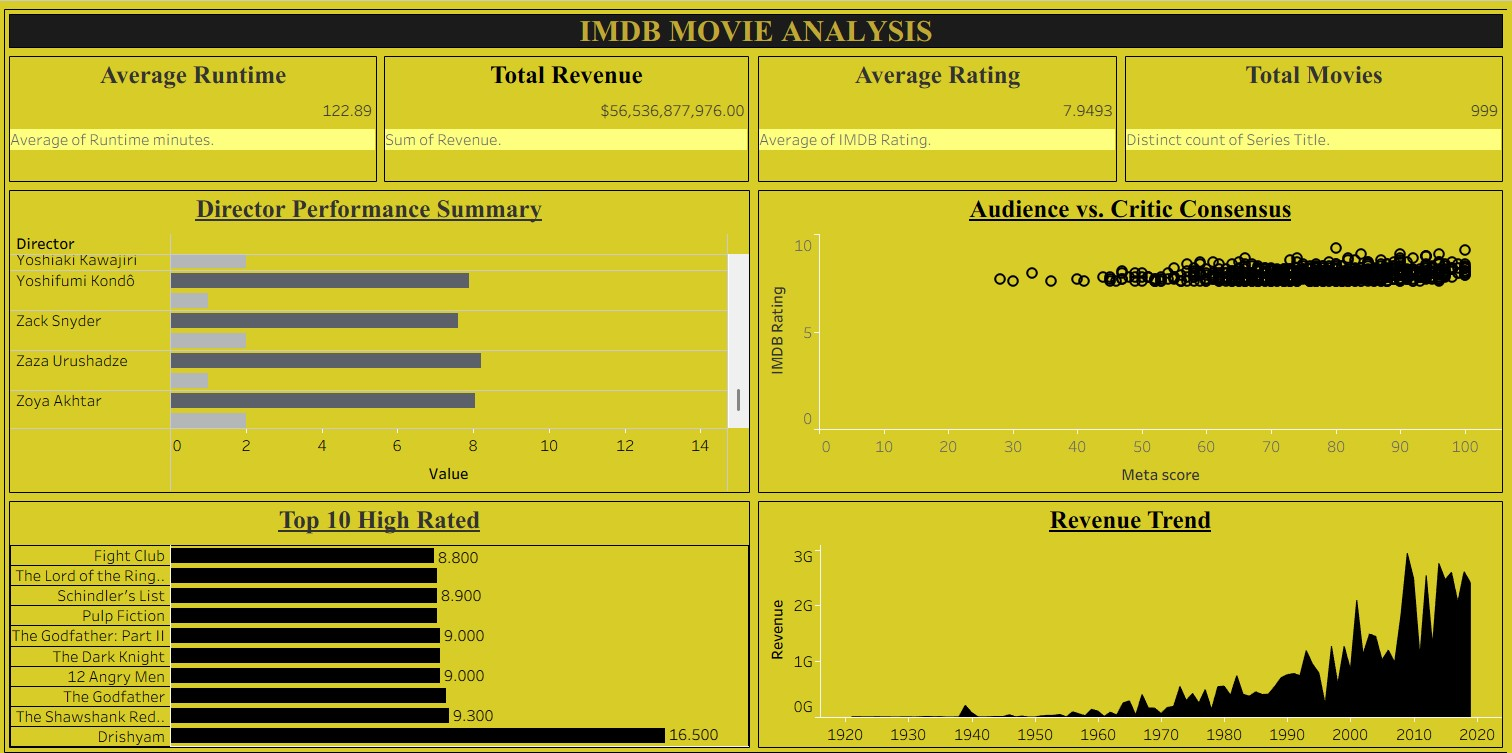

Layout of this report page (visuals, bound fields, positions):
{"tool":"tableau","page":{"name":"Dashboard 1","canvas":[1000,1000],"units":"permille","ordinal":0},"visuals":[{"type":"title","box":[5.9,11.8,988.2,55.3]},{"type":"worksheet","title":"KPI-Average Runtime","mark":"Automatic","box":[5.9,67.1,247,175.8]},{"type":"worksheet","title":"KPI-Total Revenue","mark":"Automatic","box":[253,67.1,245.7,175.8]},{"type":"worksheet","title":"KPI-Average Rating","mark":"Automatic","box":[498.7,67.1,241.5,176.2]},{"type":"worksheet","title":"KPI-Total Movies","mark":"Automatic","box":[740.1,67.1,254,176.2]},{"type":"worksheet","title":"director performance summary","mark":"Automatic","rows":["Director"],"box":[5.9,242.9,492.8,409.7]},{"type":"worksheet","title":"Score disparity","mark":"Automatic","rows":["IMDB_Rating"],"cols":["Meta_score"],"box":[498.7,243.4,495.4,409.3]},{"type":"worksheet","title":"Top 10 Highest Rated","mark":"Automatic","rows":["Series_Title"],"cols":["IMDB_Rating"],"box":[5.9,652.6,492.8,335.5]},{"type":"worksheet","title":"Revenue Trend","mark":"Area","rows":["Revenue"],"cols":["Released_Year"],"box":[498.7,652.6,495.4,335.5]}]}

Visuals, with their boxes on the dashboard's canvas, which has no fixed pixel size, in thousandths of its width and height (x1, y1, x2, y2). These are canvas units, not pixel positions in the 1512x753 screenshot, which may show the page scaled, cropped or inside an application window:
title: [left=6, top=12, right=994, bottom=67]
"KPI-Average Runtime" worksheet: [left=6, top=67, right=253, bottom=243]
"KPI-Total Revenue" worksheet: [left=253, top=67, right=499, bottom=243]
"KPI-Average Rating" worksheet: [left=499, top=67, right=740, bottom=243]
"KPI-Total Movies" worksheet: [left=740, top=67, right=994, bottom=243]
"director performance summary" worksheet: [left=6, top=243, right=499, bottom=653]
"Score disparity" worksheet: [left=499, top=243, right=994, bottom=653]
"Top 10 Highest Rated" worksheet: [left=6, top=653, right=499, bottom=988]
"Revenue Trend" worksheet (Area marks): [left=499, top=653, right=994, bottom=988]
